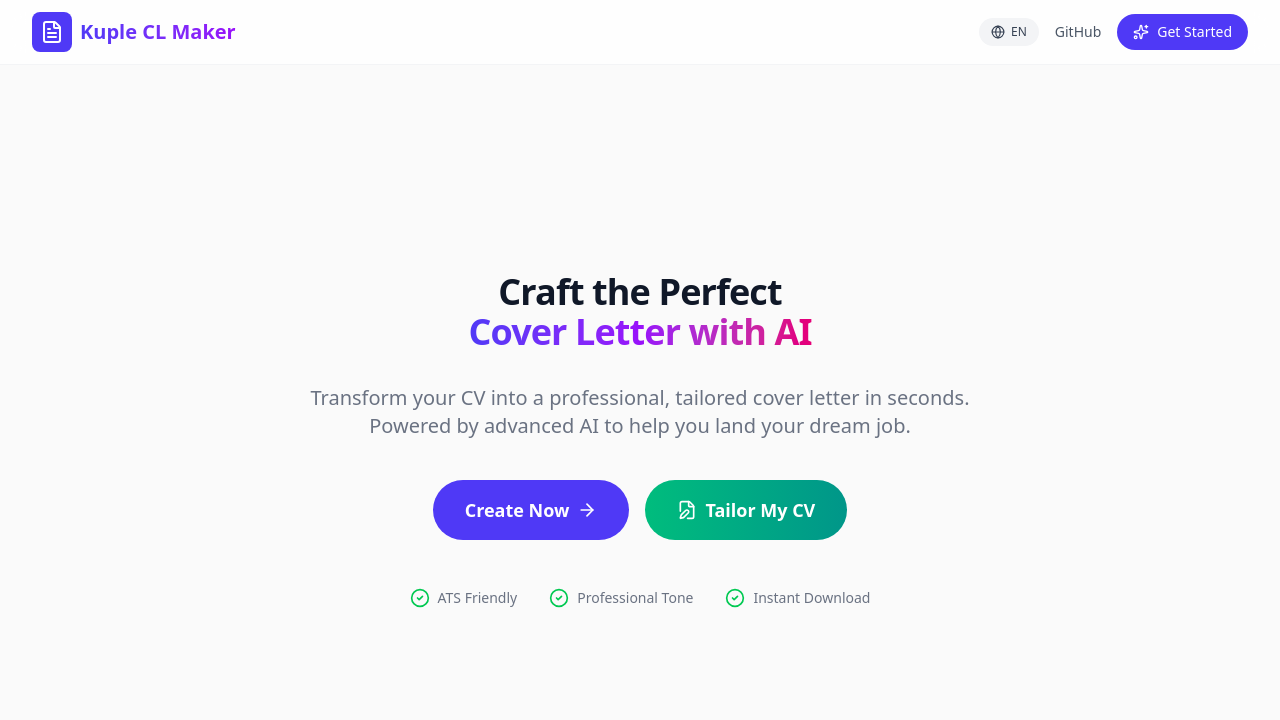
Test case: App - Integration Tests › Language switching › should switch back from Indonesian to English
// Switch to Indonesian
Click the button "EN".
click(1009, 32)  # box [979,18,1039,46]
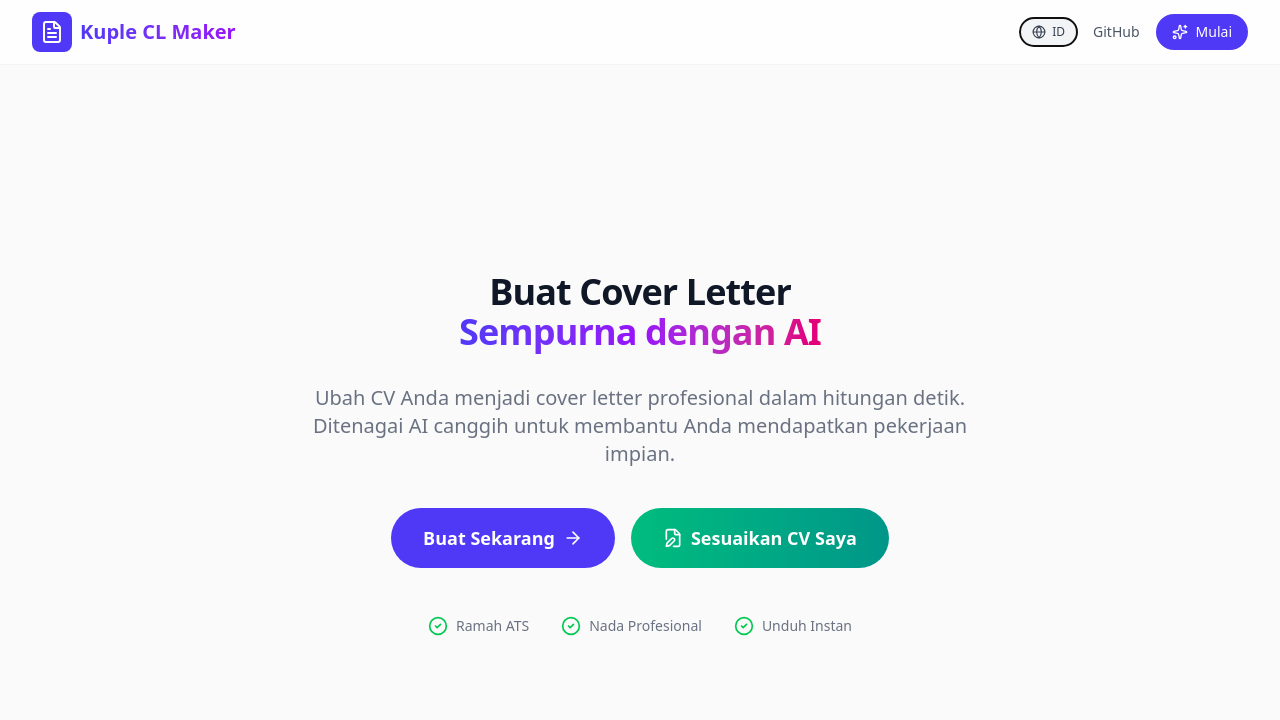
Now the button "ID" is shown
// Switch back to English
Click the button "ID".
click(1049, 32)  # box [1020,18,1077,46]
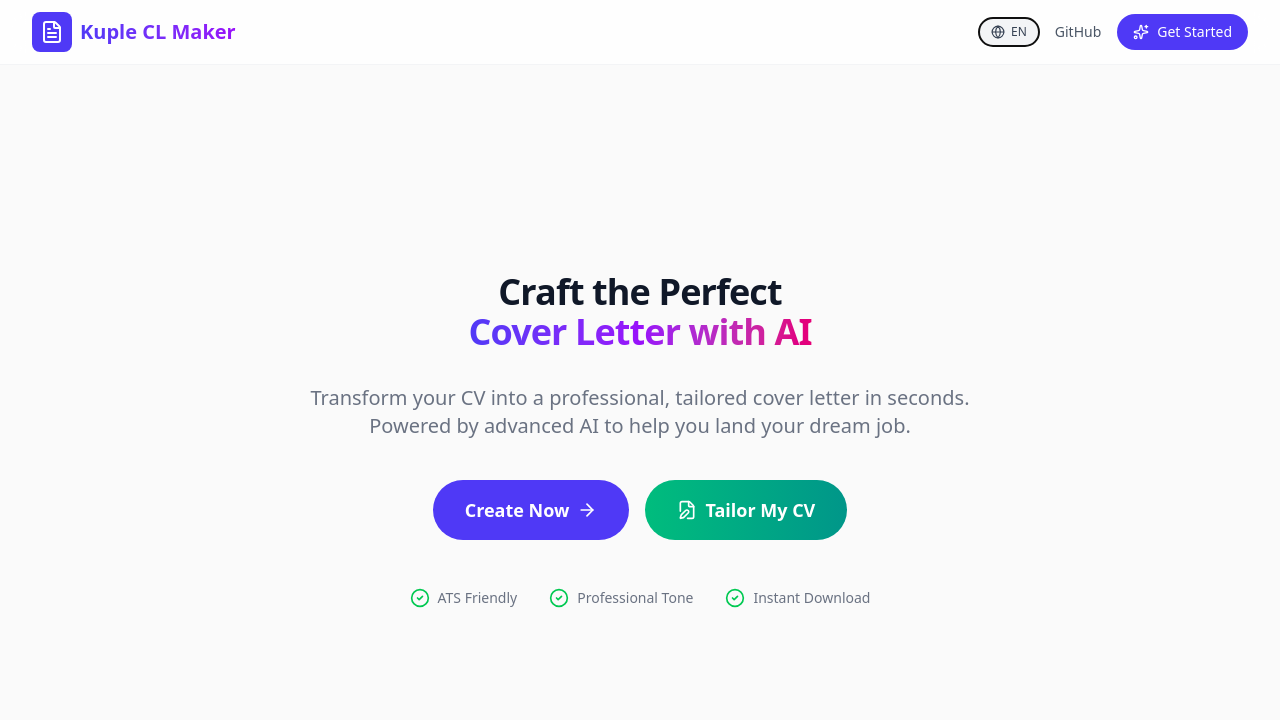
Now the heading "Craft the Perfect Cover Letter with AI" is shown, box [468,267,812,356]
